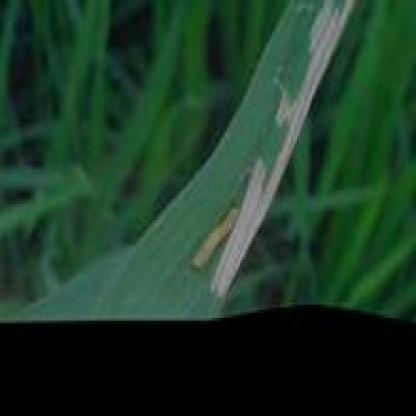leaf-folder: (184, 186, 246, 272)
